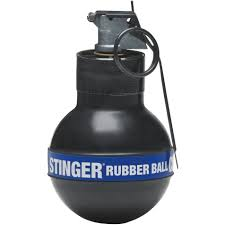bomb: (47, 8, 174, 220)
